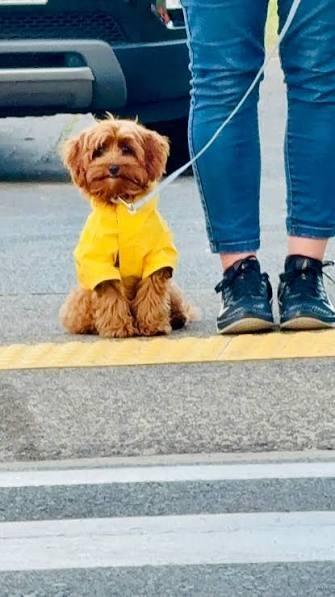adult_dog: (59, 118, 196, 338)
